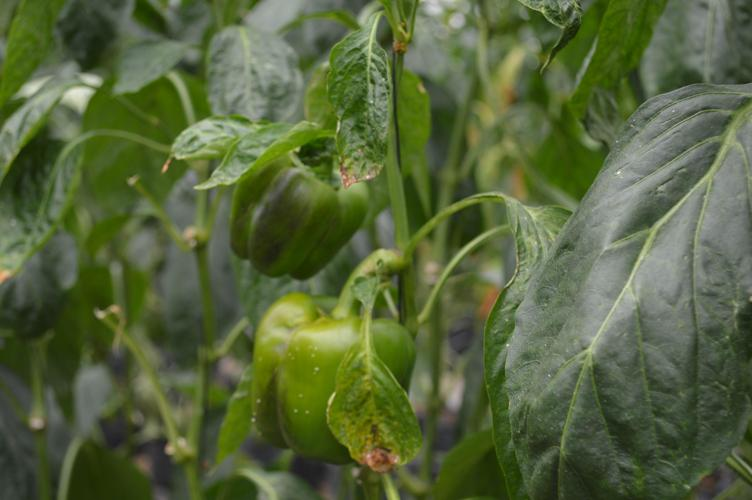BellPepper: (246, 294, 414, 464), (226, 144, 366, 275)
